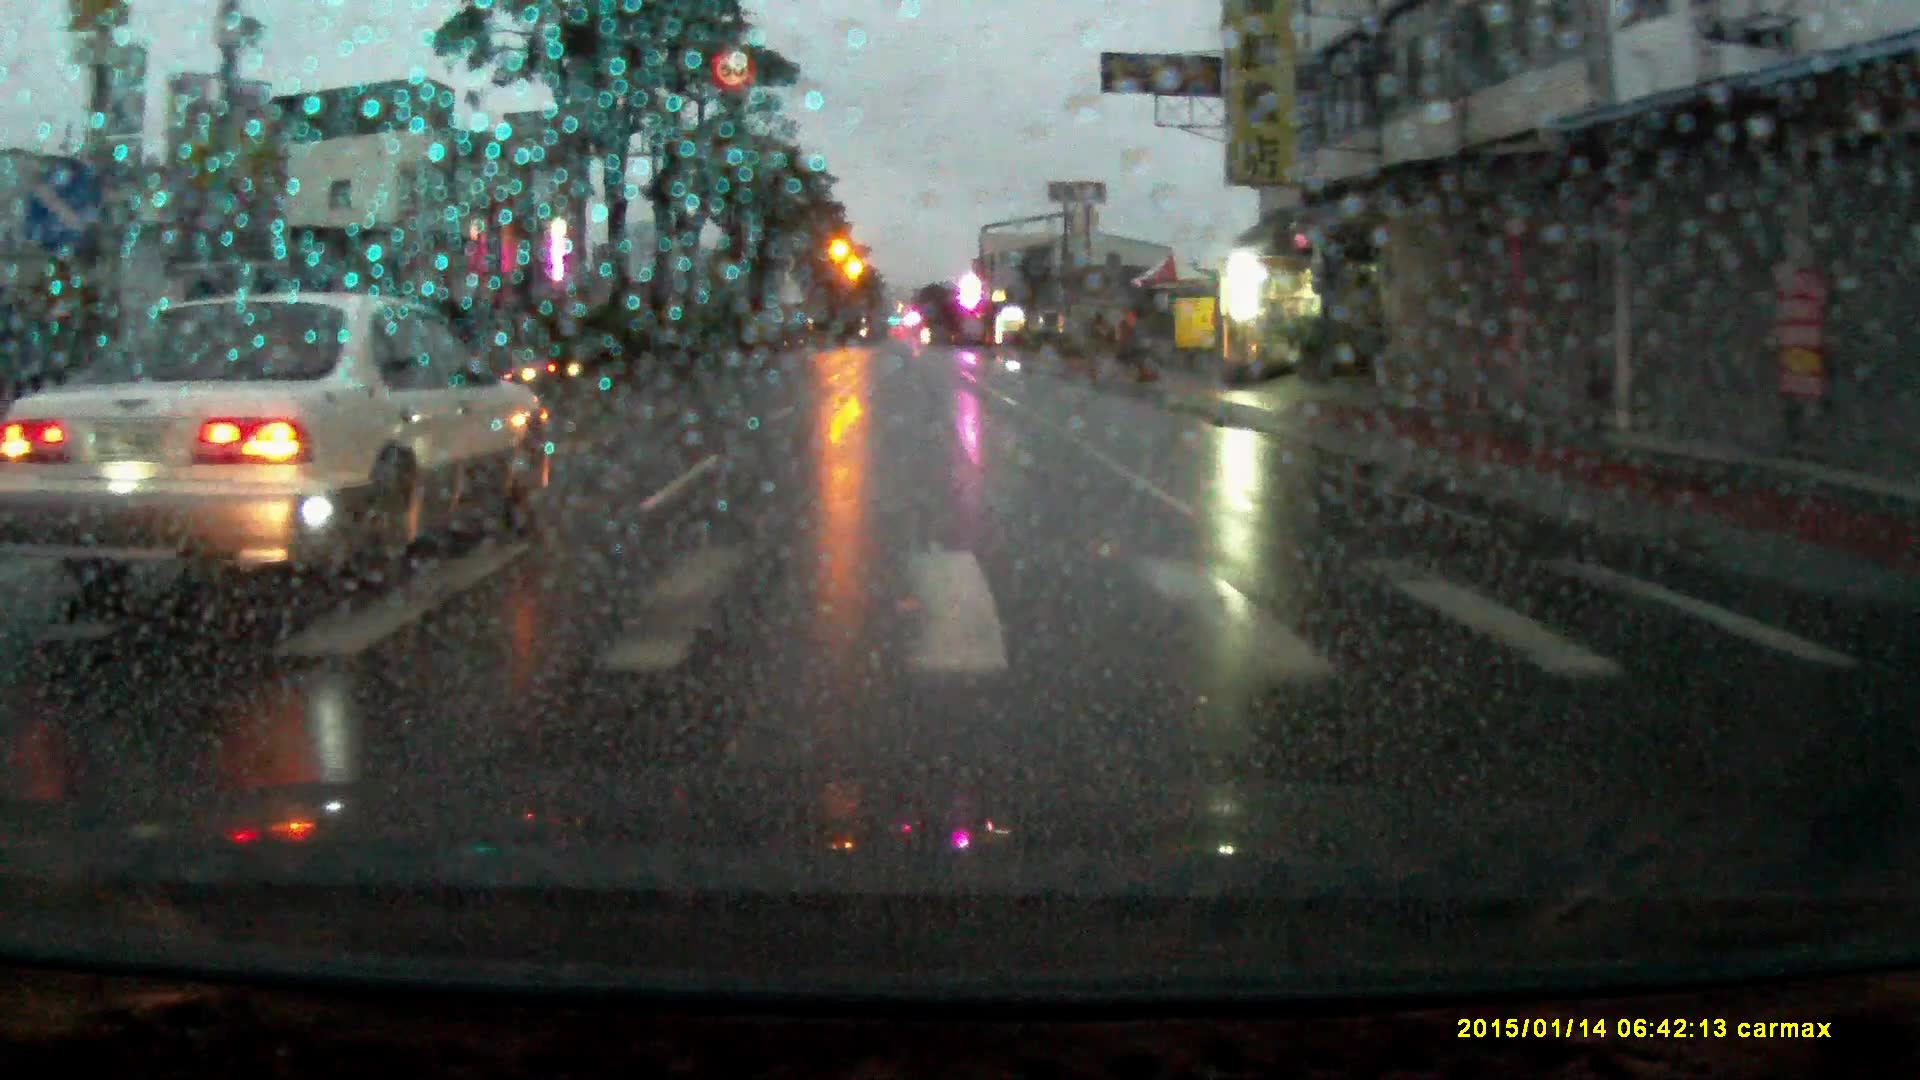vehicle: (13, 281, 542, 601)
